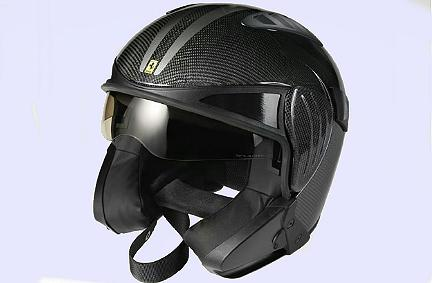helmet: (107, 5, 350, 267)
